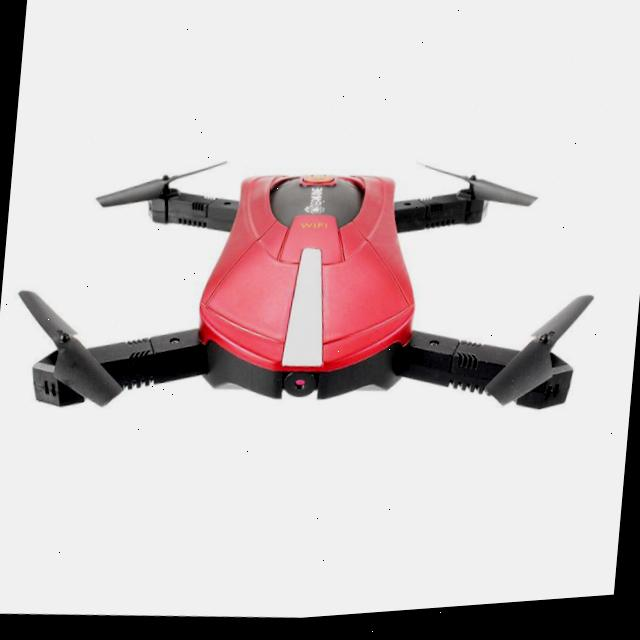drone: (0, 47, 640, 495)
